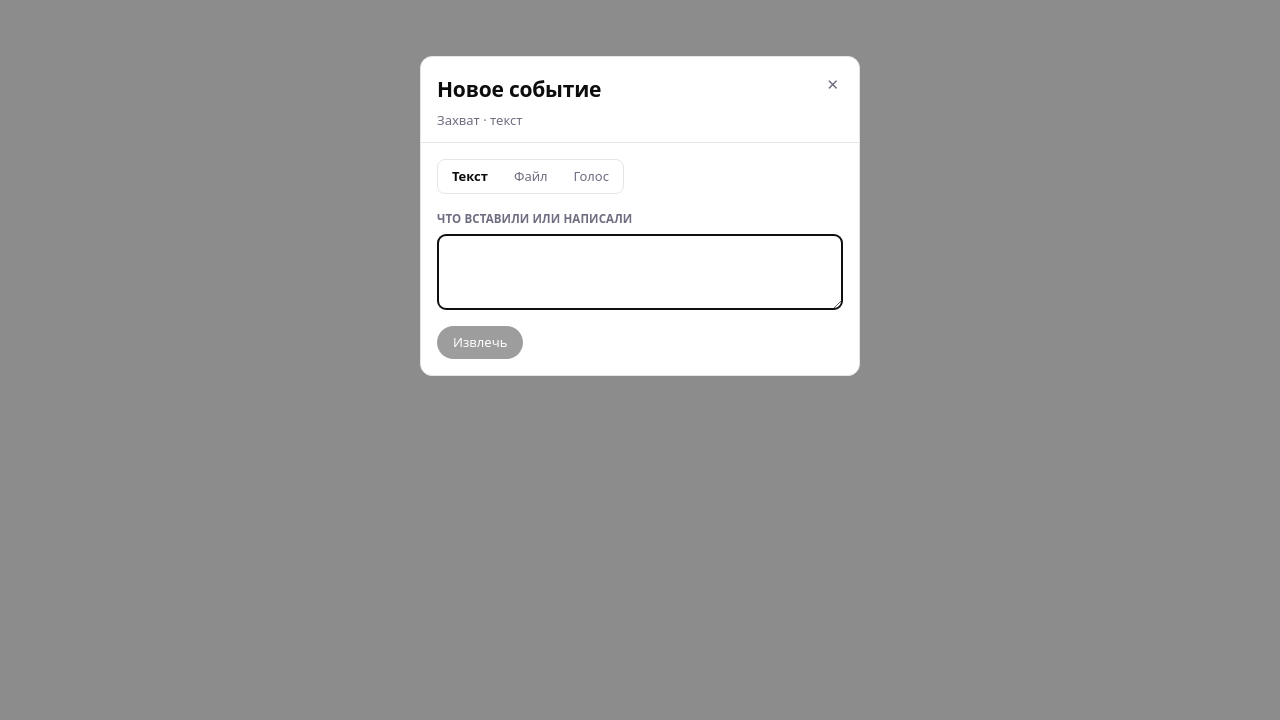
Test case: текст -> черновик -> подтверждение › обрыв связи при подтверждении не сбрасывает форму
The width and height of the screenshot is (1280, 720).
Type "встреча с куратором в четверг после физики" into the text box labelled "Что вставили или написали".
click(640, 272); type("встреча с куратором в четверг после физики")  # box [437, 234, 843, 310]
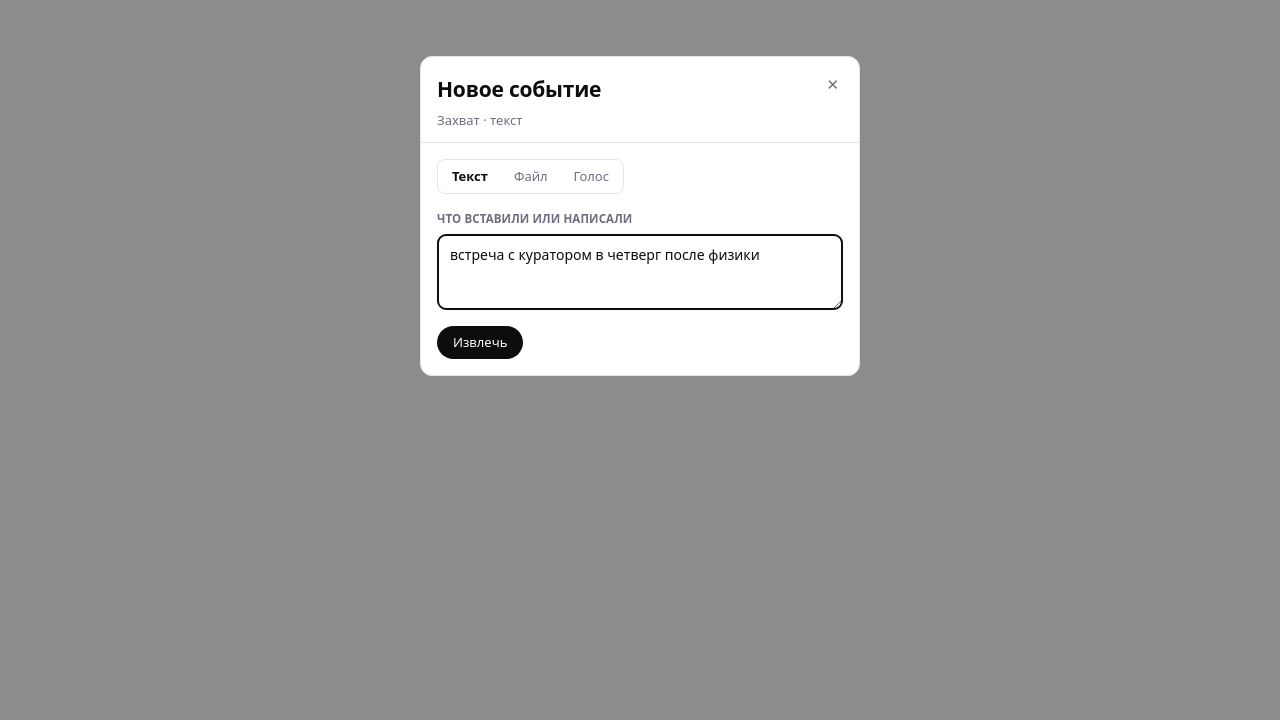
Click the button "Извлечь".
click(480, 342)  # box [437, 326, 523, 359]
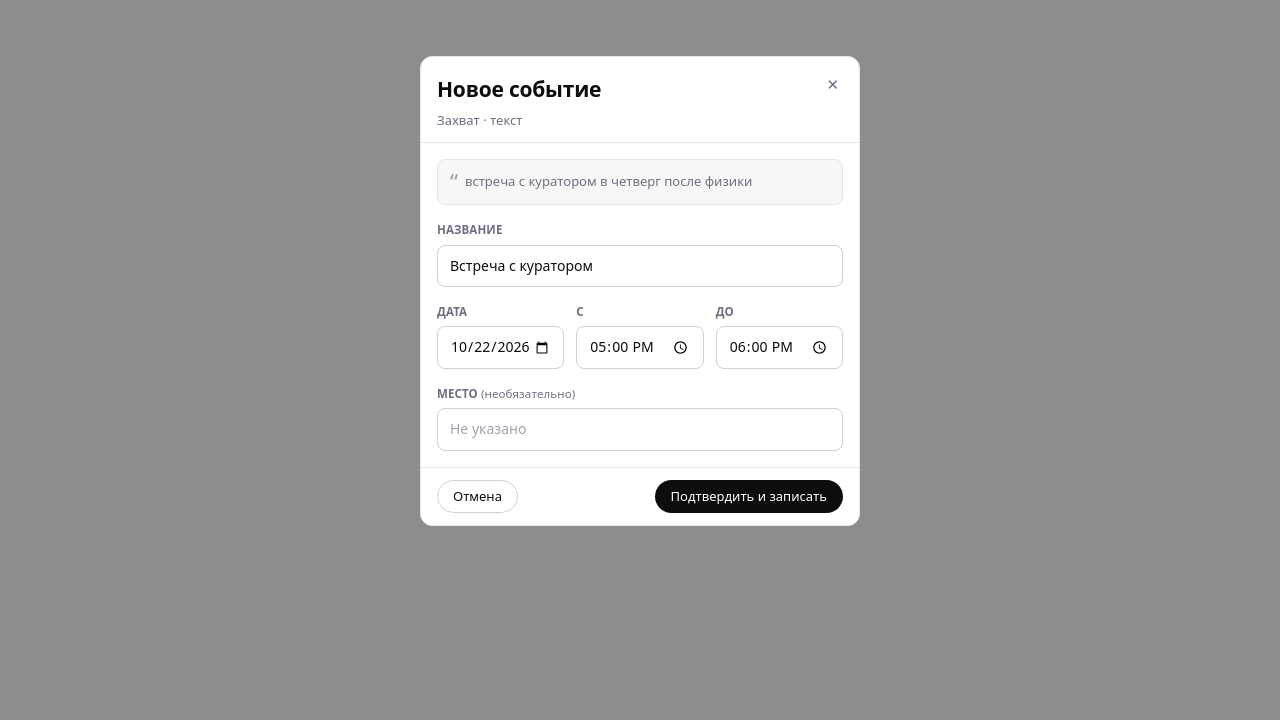
Check: the field labelled "Название" is shown, box [437, 245, 843, 287]
Click the button "Подтвердить и записать".
click(749, 496)  # box [654, 480, 843, 513]
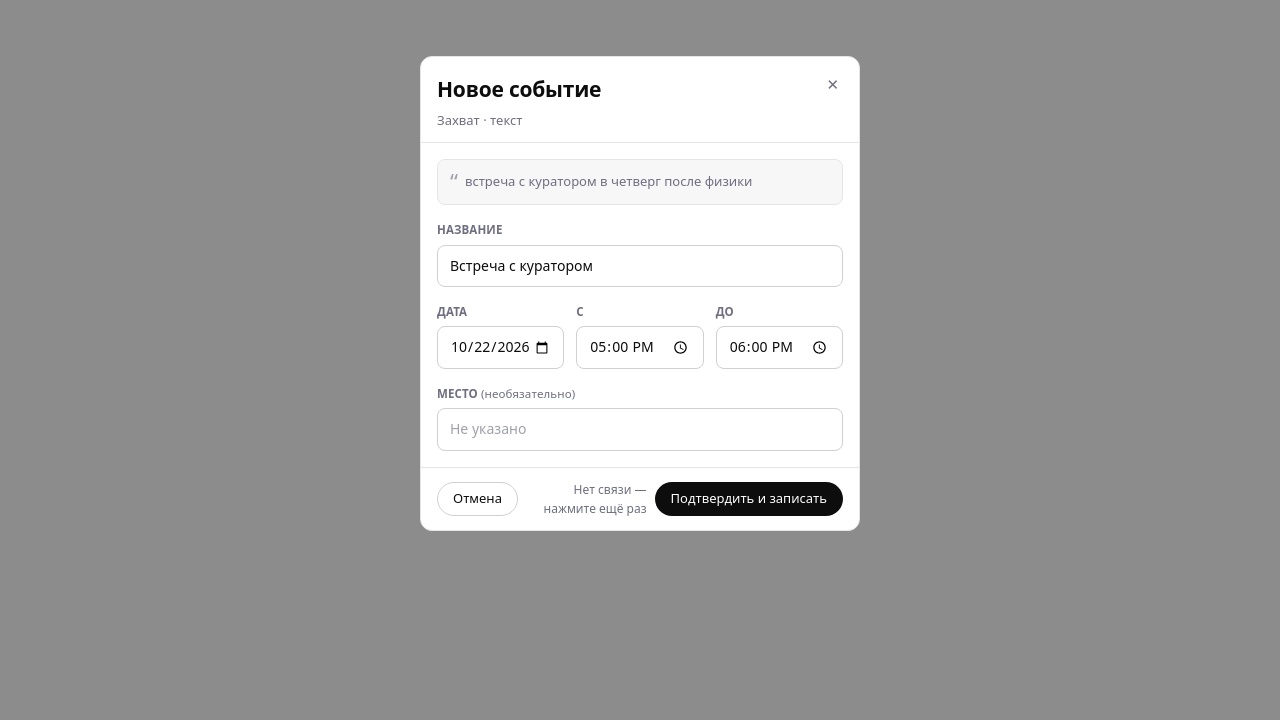
Check: the field labelled "Название" holds "Встреча с куратором", box [437, 245, 843, 287]
Check: the button "Подтвердить и записать" is enabled, box [654, 482, 843, 516]
Check: the text "Нет связи — нажмите ещё раз" is shown, box [530, 480, 647, 518]
